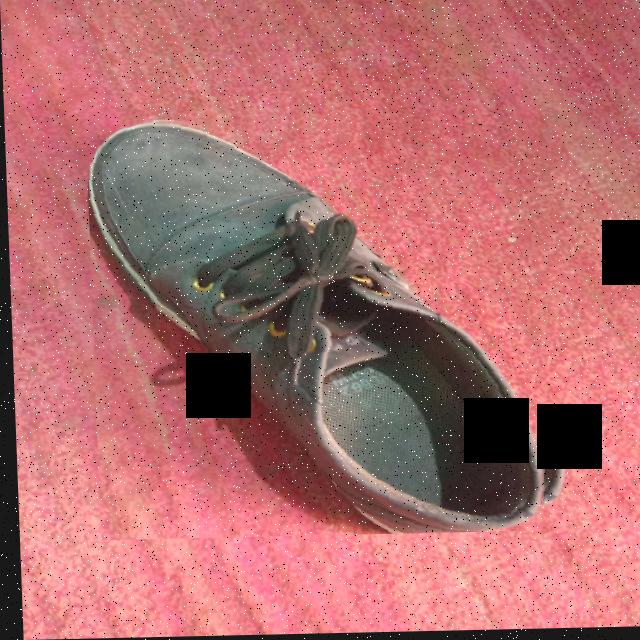shoe: (85, 112, 563, 541)
